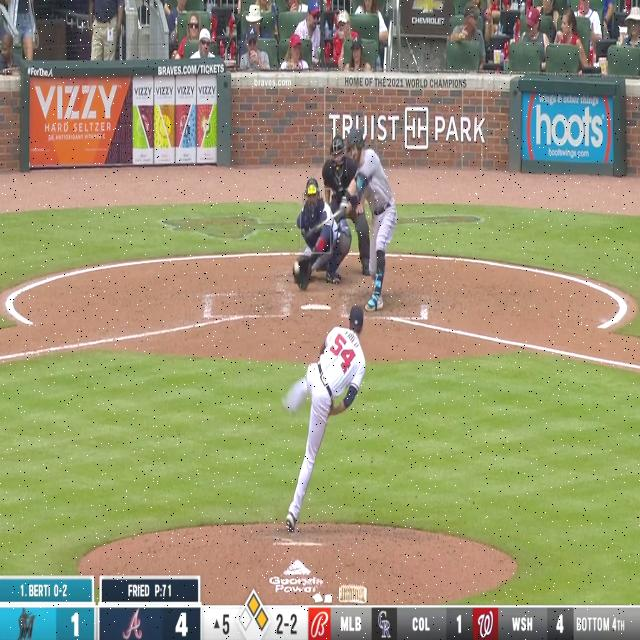baseball: (293, 261, 300, 275)
